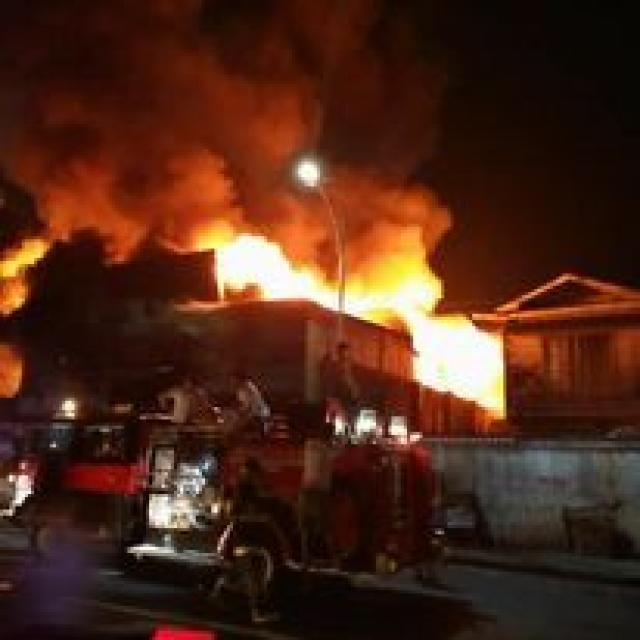Fire: (188, 217, 508, 416)
Smoke: (0, 0, 425, 329)
